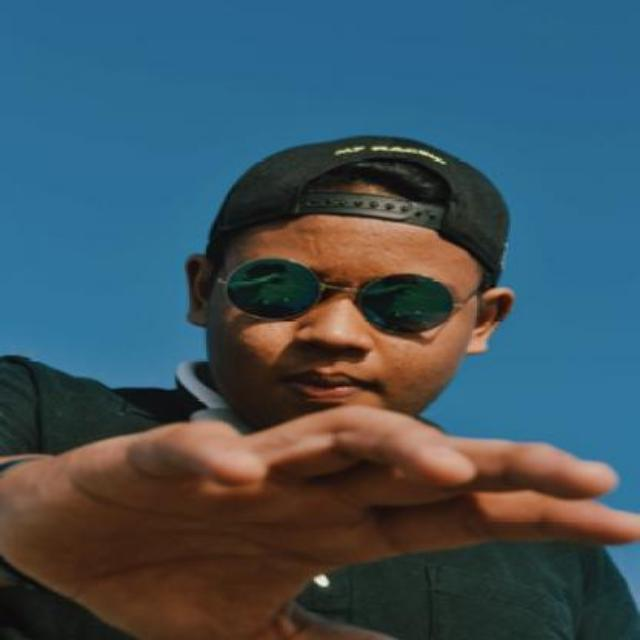sunglasses: (215, 256, 481, 334)
